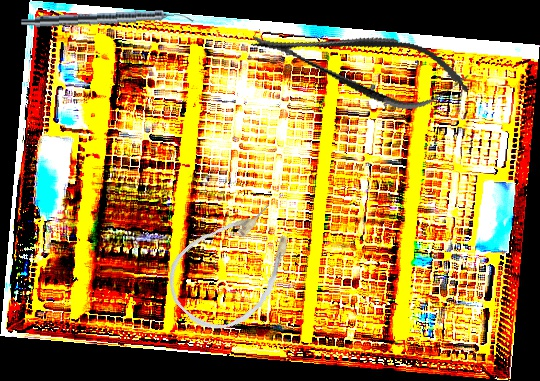Cannula: (152, 186, 316, 348)
Handpiece: (19, 7, 195, 32)
Micro Scissor: (245, 4, 475, 124)
